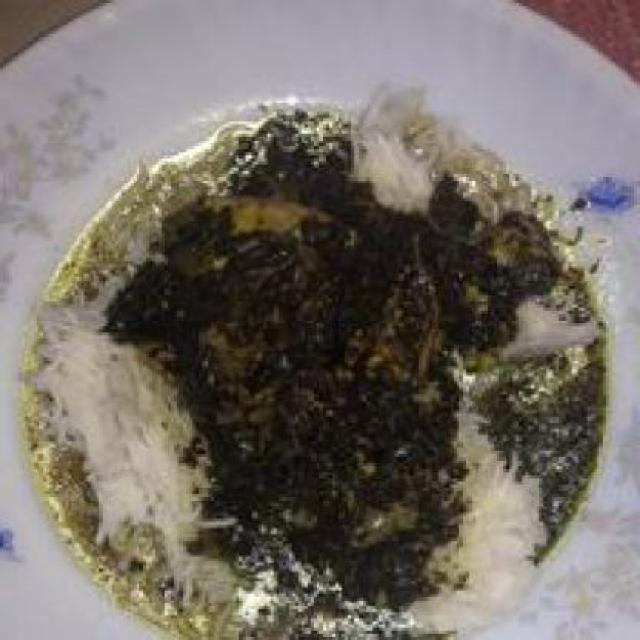fried rice: (71, 298, 187, 556), (435, 370, 547, 621), (351, 127, 429, 208)
molokhia: (28, 74, 612, 637)
